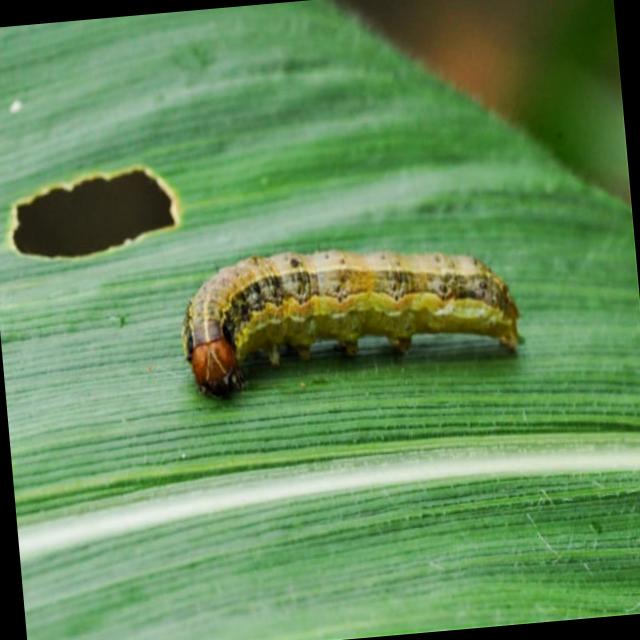Armyworm: (148, 216, 534, 418)
Armyworm_damage: (1, 119, 187, 315)
